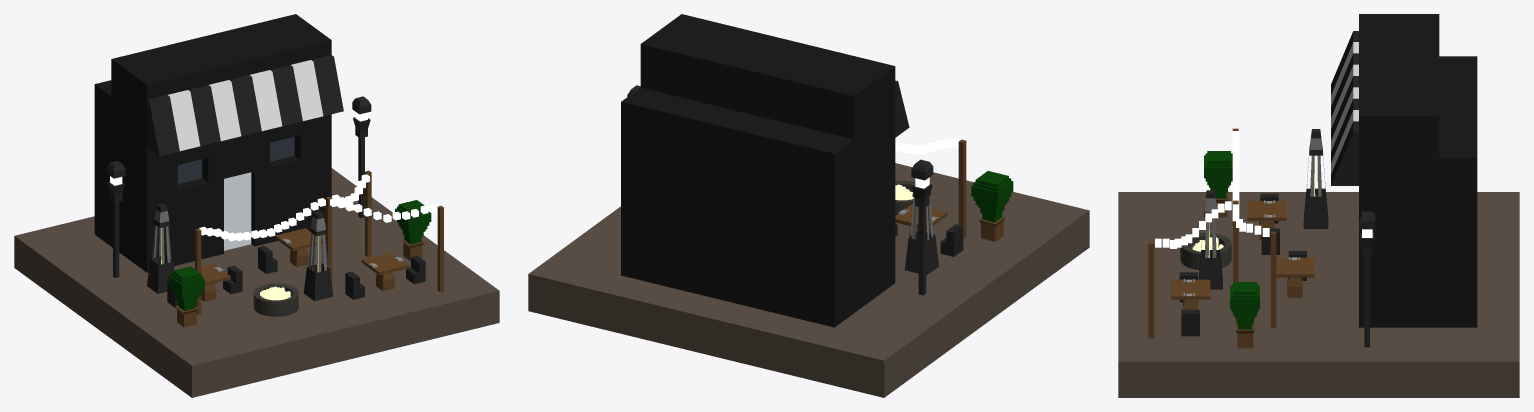
The model's file is restaurant-2.glb.
3 renders of one model, left to right at view 1: azimuth 30°, elevation 25°; view 2: azimuth 150°, elevation 25°; view 3: azimuth 270°, elevation 25°, orthographic. The views are drawn at different scales.
Parts seen in each view (by area): view 1: Grid.091; view 2: Grid.091; view 3: Grid.091.
Boxes of the visible parts, <box> form: Grid.091: <box>14,14,499,397</box>; Grid.091: <box>528,14,1089,397</box>; Grid.091: <box>1118,14,1519,397</box>.
Bounding box in the file's own units: 1 × 0.6833 × 1.
